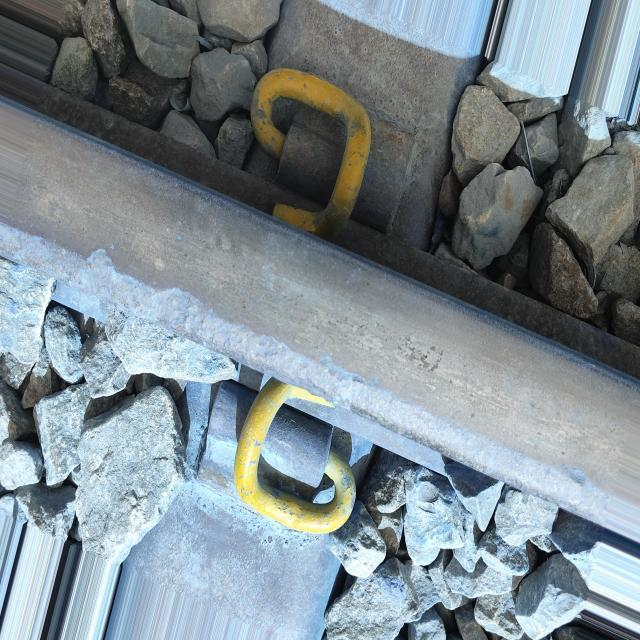Good Fasteners: (235, 45, 448, 257), (164, 353, 374, 533)
